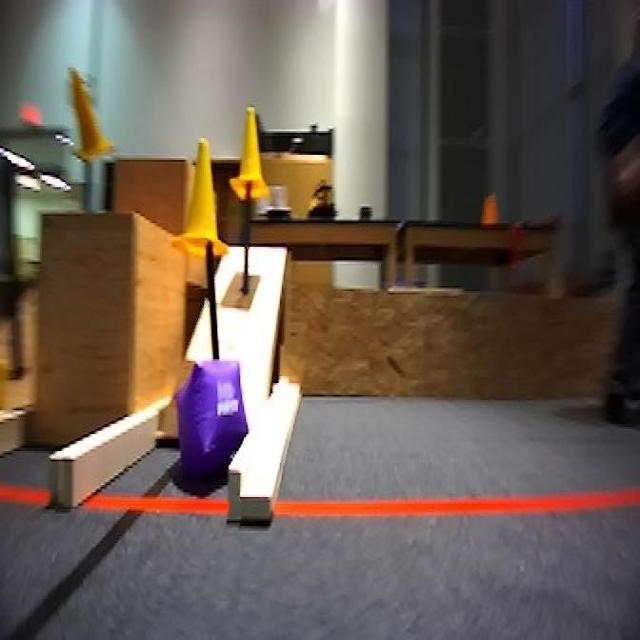frc_cone: (178, 136, 232, 266), (62, 60, 109, 168), (232, 106, 272, 199)
frc_cube: (175, 359, 244, 480)
